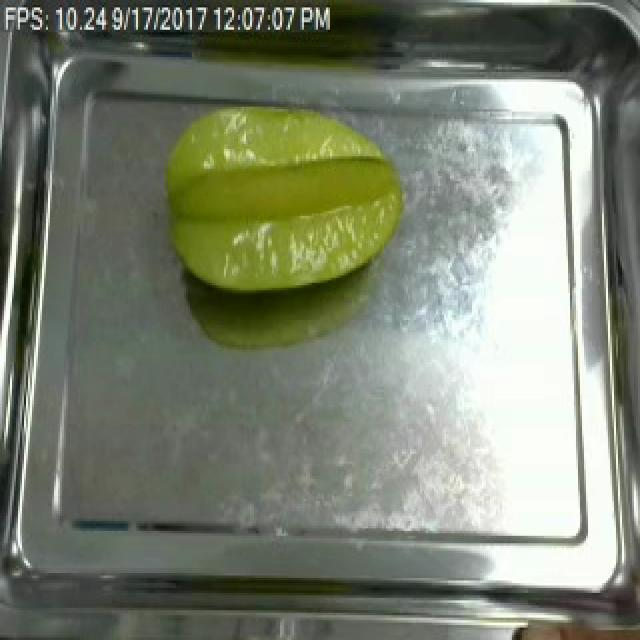fruit: (150, 94, 412, 303)
